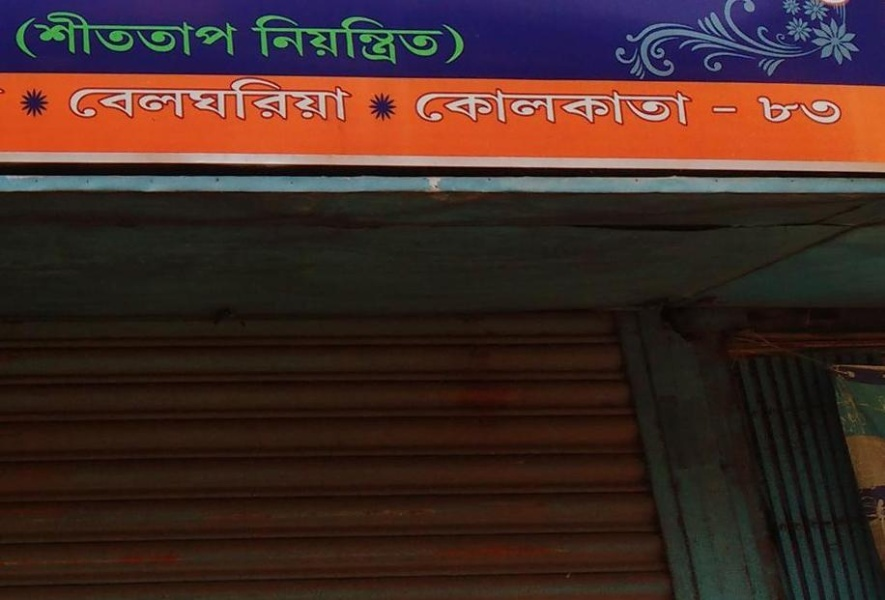text: (81, 76, 96, 129), (97, 76, 112, 129), (113, 76, 128, 129), (129, 76, 144, 129), (145, 76, 160, 129), (161, 76, 176, 129), (177, 76, 192, 129), (193, 76, 208, 129), (209, 76, 224, 129), (225, 76, 240, 129), (241, 76, 256, 129), (257, 76, 272, 129), (273, 76, 288, 129), (289, 76, 304, 129), (305, 76, 320, 129), (321, 76, 336, 129), (337, 76, 352, 129), (257, 14, 272, 66), (273, 14, 288, 66), (289, 14, 304, 66), (305, 14, 320, 66), (321, 14, 336, 66), (337, 14, 352, 66), (353, 14, 368, 66), (369, 14, 384, 66), (385, 14, 400, 66), (401, 14, 416, 66), (417, 14, 432, 66), (433, 14, 448, 66), (449, 14, 464, 66), (17, 11, 32, 62), (33, 11, 48, 62), (49, 11, 64, 62), (65, 11, 80, 62), (81, 11, 96, 62), (97, 11, 112, 62), (113, 11, 128, 62), (129, 11, 144, 62), (145, 11, 160, 62), (161, 11, 176, 62), (177, 11, 192, 62), (193, 11, 208, 62), (209, 11, 224, 62), (225, 11, 240, 62), (417, 87, 432, 132), (433, 87, 448, 132), (449, 87, 464, 132), (465, 87, 480, 132), (481, 87, 496, 132), (497, 87, 512, 132), (513, 87, 528, 132), (529, 87, 544, 132), (545, 87, 560, 132), (561, 87, 576, 132), (577, 87, 592, 132), (593, 87, 608, 132), (609, 87, 624, 132), (625, 87, 640, 132), (641, 87, 656, 132), (657, 87, 672, 132), (673, 87, 688, 132), (689, 87, 704, 132), (705, 87, 720, 132), (721, 87, 736, 132), (737, 87, 752, 132), (753, 87, 768, 132), (769, 87, 784, 132), (785, 87, 800, 132), (801, 87, 816, 132), (817, 87, 832, 132), (69, 76, 80, 129), (833, 87, 843, 132), (251, 14, 256, 66), (465, 14, 468, 66), (353, 76, 355, 129), (14, 11, 16, 62), (414, 87, 416, 132), (241, 11, 242, 62)
